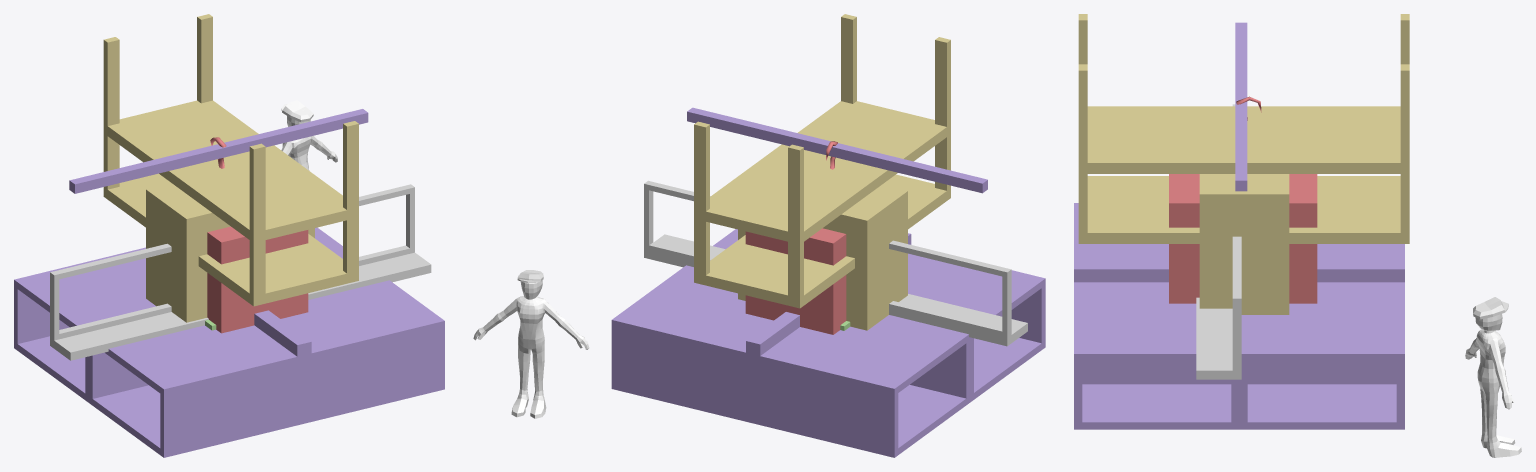
Rendered from stovetop.dae.
3 renders of one model, left to right at view 1: azimuth 30°, elevation 25°; view 2: azimuth 150°, elevation 25°; view 3: azimuth 270°, elevation 25°, orthographic. The views are drawn at different scales.
Visible parts, largest first — view 1: counter, roofshelf, ordercounter, shelf, oven, meatrack, char; view 2: counter, roofshelf, shelf, ordercounter, meatrack, oven, char; view 3: counter, roofshelf, shelf, oven, char, ordercounter, meatrack.
Part boxes in pixels (left/top/right/bottom): counter: left=14, top=227, right=444, bottom=457; roofshelf: left=103, top=14, right=358, bottom=306; ordercounter: left=50, top=184, right=431, bottom=360; shelf: left=146, top=183, right=314, bottom=322; oven: left=207, top=226, right=308, bottom=333; meatrack: left=69, top=109, right=368, bottom=193; char: left=281, top=100, right=337, bottom=170; counter: left=611, top=229, right=1045, bottom=457; roofshelf: left=694, top=14, right=950, bottom=308; shelf: left=738, top=184, right=907, bottom=330; ordercounter: left=644, top=180, right=1027, bottom=346; meatrack: left=687, top=107, right=987, bottom=193; oven: left=745, top=228, right=846, bottom=334; char: left=473, top=270, right=589, bottom=418; counter: left=1074, top=203, right=1404, bottom=429; roofshelf: left=1078, top=14, right=1409, bottom=243; shelf: left=1199, top=174, right=1289, bottom=314; oven: left=1169, top=174, right=1317, bottom=303; char: left=1465, top=297, right=1521, bottom=457; ordercounter: left=1196, top=104, right=1241, bottom=379; meatrack: left=1235, top=22, right=1247, bottom=191.
Size of the model in its own units: 5.82 by 5 by 3.87.
